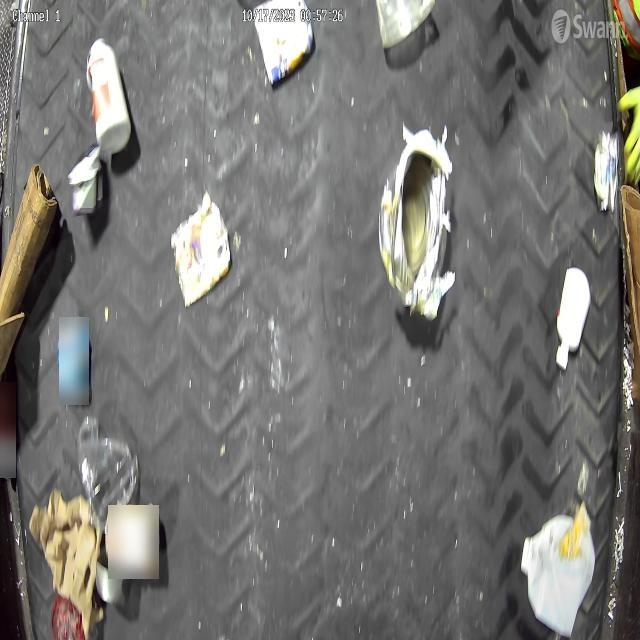milk_jug: (522, 507, 595, 635)
